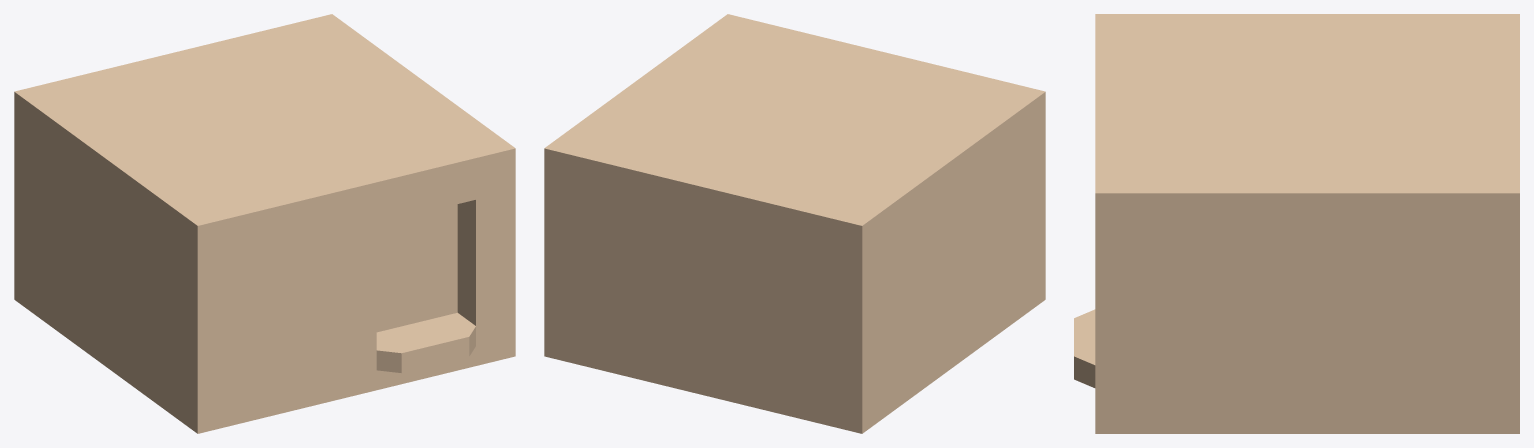
File: building-window-right-sill.obj
3 views of the same model, side by side, from view 1: azimuth 30°, elevation 25°; view 2: azimuth 150°, elevation 25°; view 3: azimuth 270°, elevation 25° (orthographic). The views are drawn at different scales.
Bounding box in the file's own units: 1 × 0.625 × 1.05.
